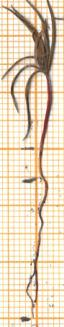flower: (0, 0, 64, 78)
root: (24, 179, 52, 320)
stem: (34, 76, 56, 180)
